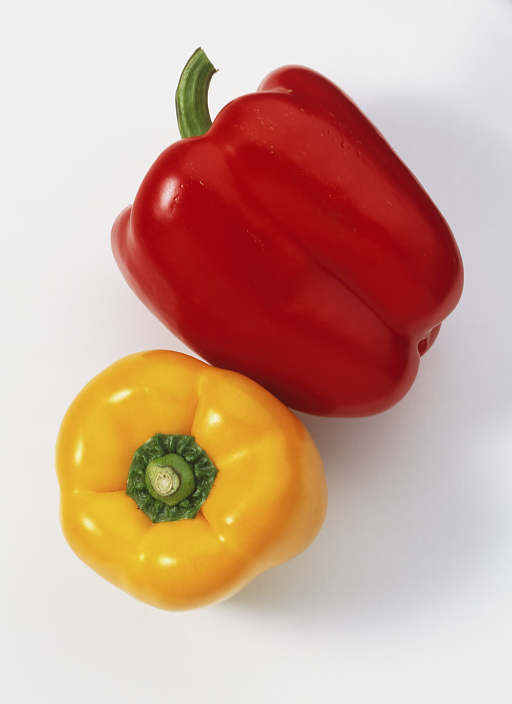capsicum: (105, 45, 469, 422), (52, 347, 330, 614)
